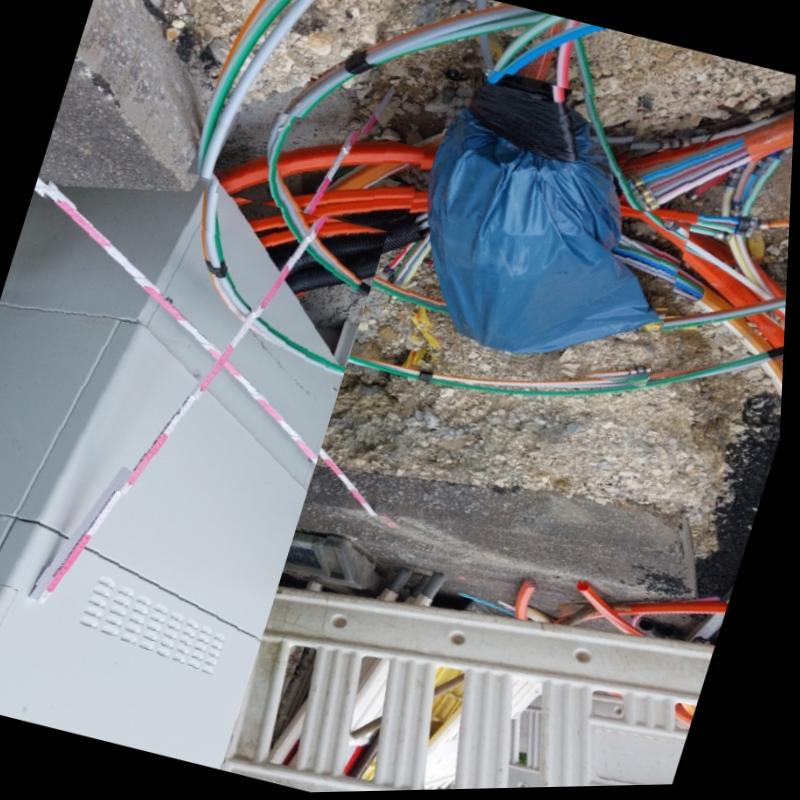NT-Gehause: (0, 180, 349, 771)
NT-Muffen: (424, 73, 669, 362)
Orang-Speednetrohrchen: (621, 120, 795, 217), (222, 145, 428, 195)
